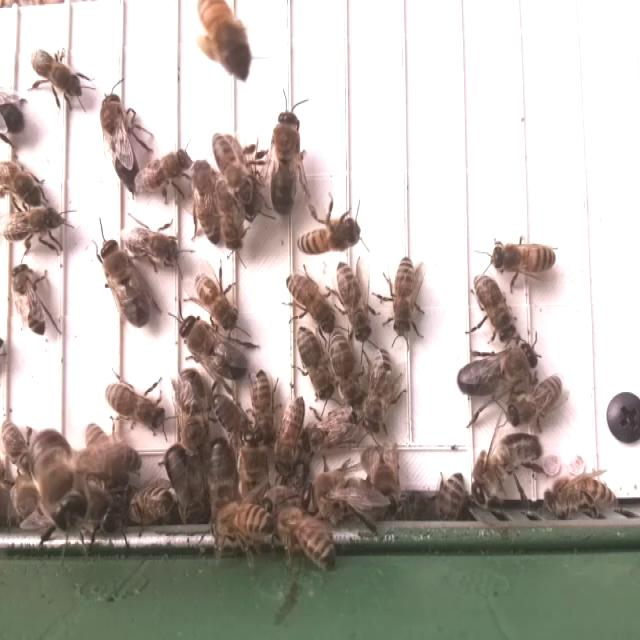Drone: (27, 427, 91, 535), (470, 430, 545, 506), (176, 312, 251, 381), (456, 342, 541, 402), (99, 235, 153, 329), (99, 90, 142, 191), (173, 365, 214, 468), (269, 107, 307, 217), (162, 440, 207, 527)
Worker: (300, 402, 365, 455), (189, 156, 224, 250), (329, 328, 368, 412), (285, 267, 337, 329), (472, 271, 518, 341), (335, 261, 374, 343), (211, 130, 254, 204), (101, 380, 170, 425), (362, 347, 396, 436), (294, 321, 330, 405), (507, 375, 565, 426), (134, 147, 192, 197), (487, 238, 558, 278), (389, 250, 420, 340), (295, 215, 361, 257), (206, 501, 278, 539), (11, 261, 46, 339), (28, 48, 81, 99), (276, 393, 306, 482), (121, 223, 182, 266), (0, 206, 64, 246), (208, 389, 252, 447), (544, 473, 619, 507), (196, 272, 240, 328), (251, 367, 275, 446)
